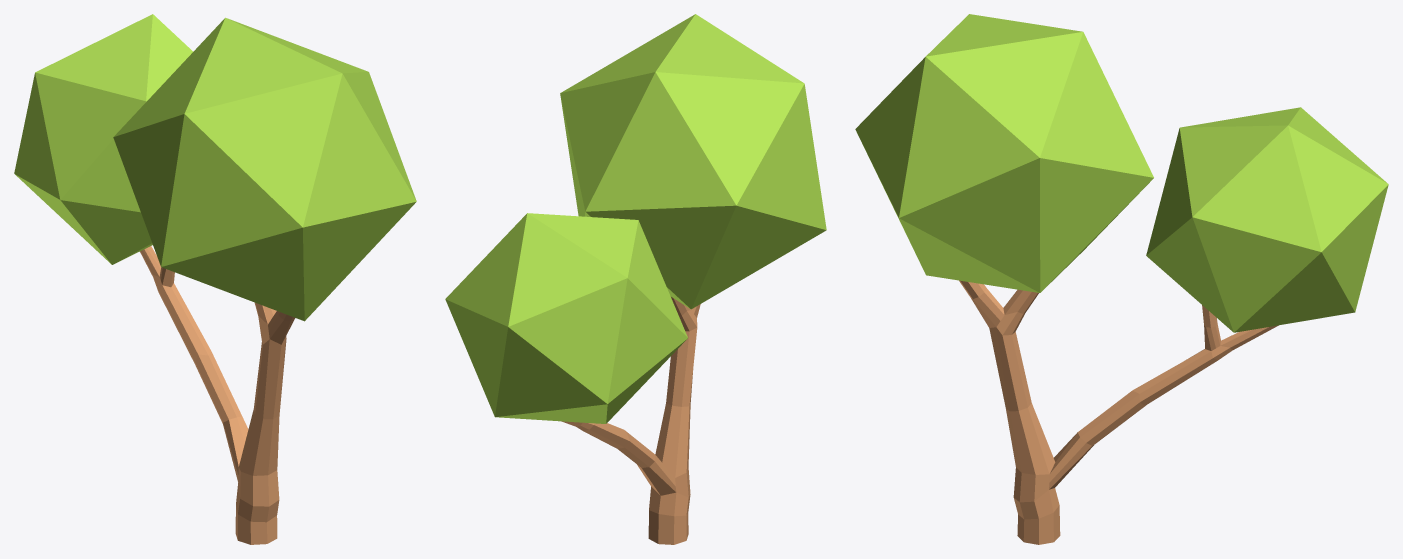
Rendered from tree_broad_3.glb.
The picture shows the model from 3 angles, left to right: view 1: azimuth 30°, elevation 25°; view 2: azimuth 150°, elevation 25°; view 3: azimuth 270°, elevation 25°; orthographic projection. The views are drawn at different scales.
Parts seen in each view (by area): view 1: Icosphere.008; view 2: Icosphere.008; view 3: Icosphere.008.
Part boxes in pixels (x1,y1,x2,y2): Icosphere.008: (14,14,416,544); Icosphere.008: (445,14,826,544); Icosphere.008: (855,14,1388,544).
Size of the model in its own units: 2.27 by 4.5 by 4.35.
